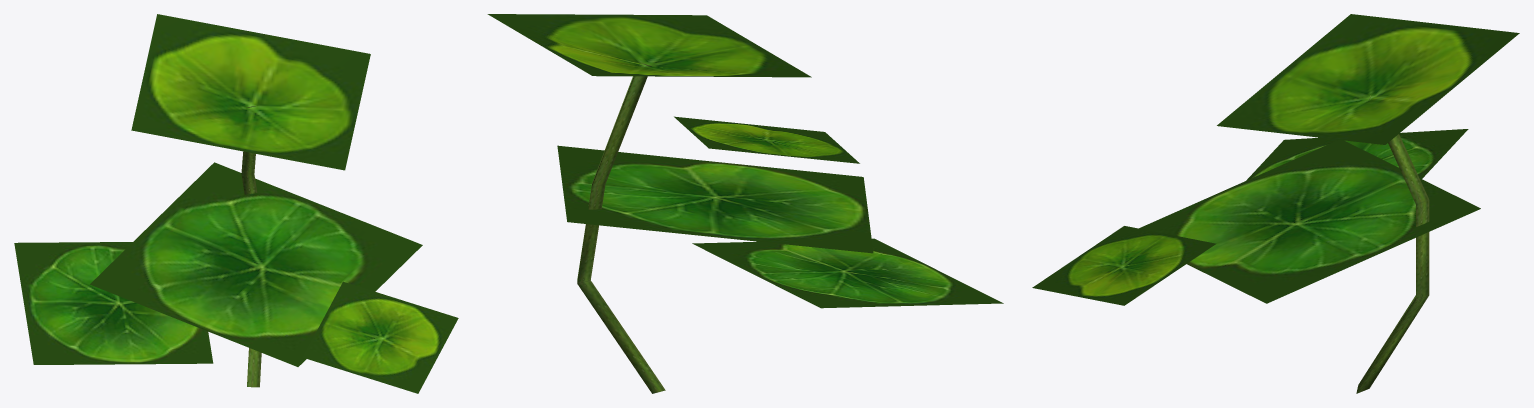
The model's file is Stage_CaoYuan_HeHua01.FBX.
3 views of the same model, side by side, from view 1: azimuth 30°, elevation 25°; view 2: azimuth 150°, elevation 25°; view 3: azimuth 270°, elevation 25° (orthographic). The views are drawn at different scales.
Visible parts, largest first — view 1: Stage_CaoYuan_HeHua01; view 2: Stage_CaoYuan_HeHua01; view 3: Stage_CaoYuan_HeHua01.
Part boxes in pixels (x1,y1,x2,y2): Stage_CaoYuan_HeHua01: (14,14,458,393); Stage_CaoYuan_HeHua01: (487,14,1003,393); Stage_CaoYuan_HeHua01: (1032,14,1519,393).
Size of the model in its own units: 112 by 90.12 by 115.
